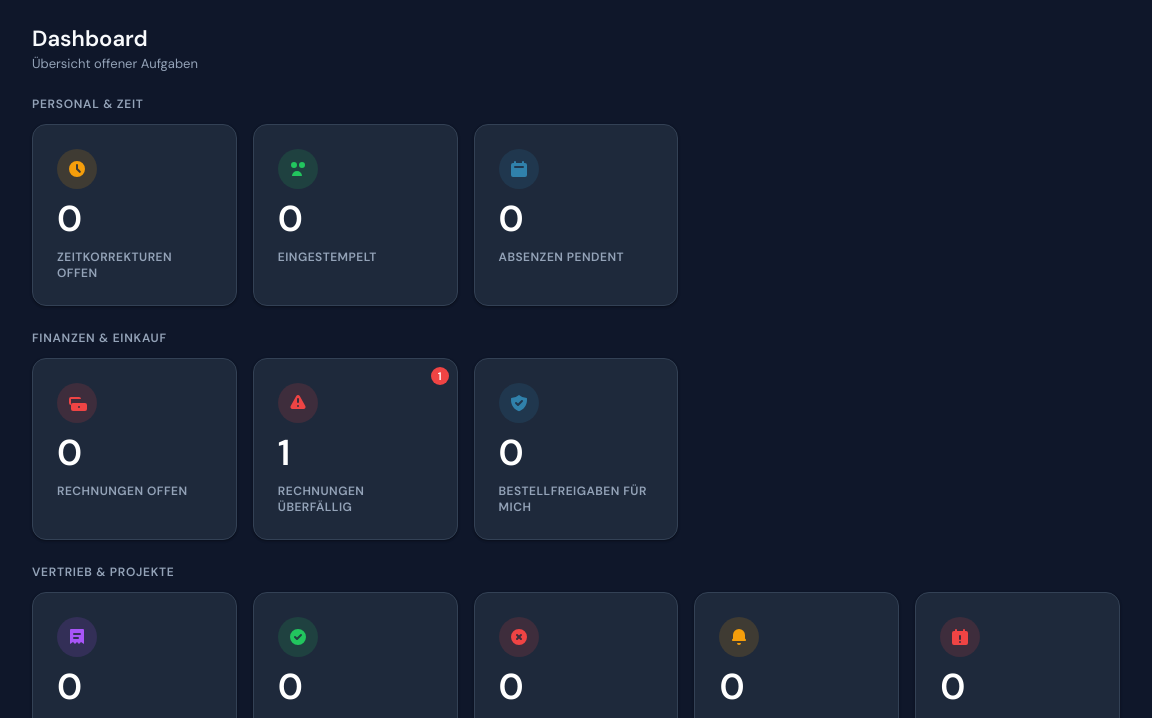
it: Mahnung als Brief › vermerkt beim Öffnen nichts, erst auf ausdrücklichen Klick
What coordinates should you click on to do the following:
click the text "Rechnungen überfällig"
I would click on:
 (321, 499)
Its box is [278,483,364,515].
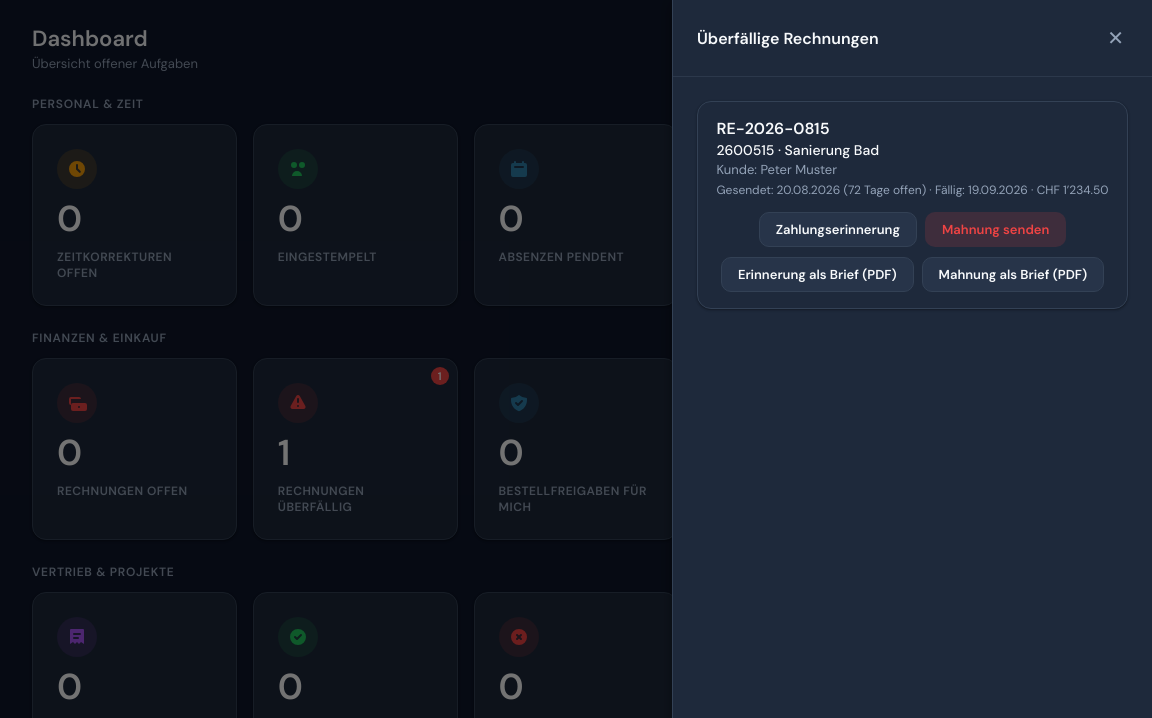
Result: the text "RE-2026-0815" is shown at [716,118,830,139]
What coordinates should you click on to do the following:
click the link "Mahnung als Brief (PDF)"
I would click on:
 (1013, 274)
Its box is [922,257,1104,292].
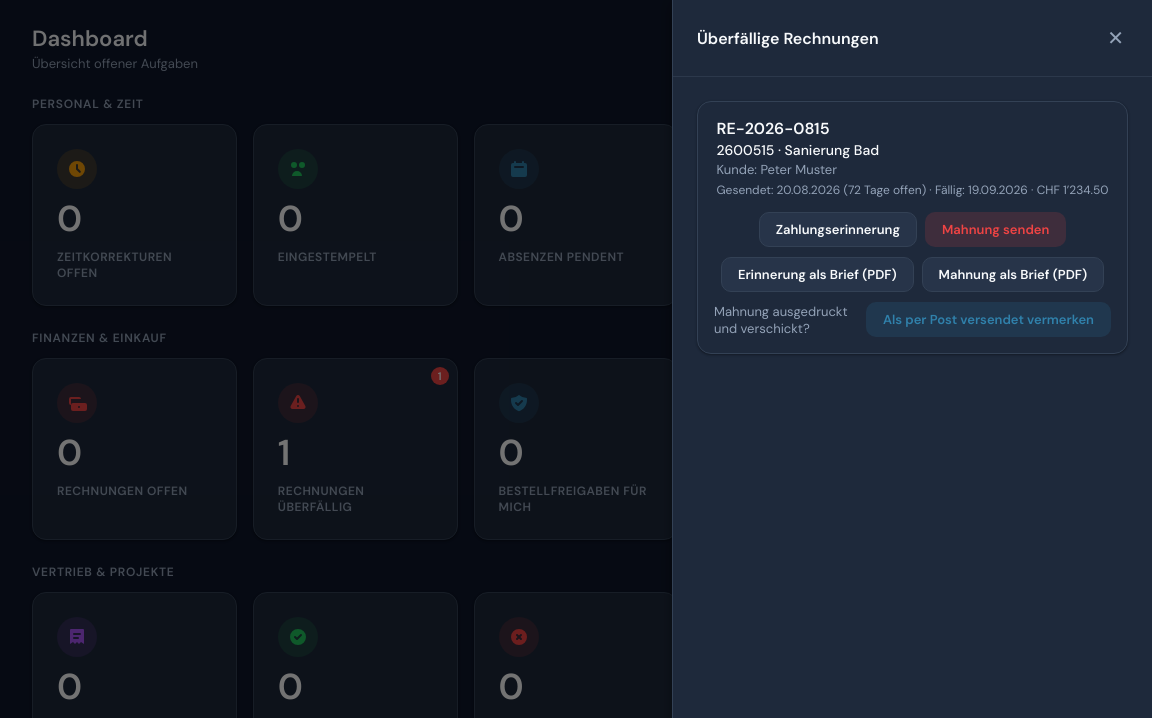
What coordinates should you click on to do the following:
click the button "Als per Post versendet vermerken"
I would click on:
 (988, 320)
Its box is [866,302,1111,337].
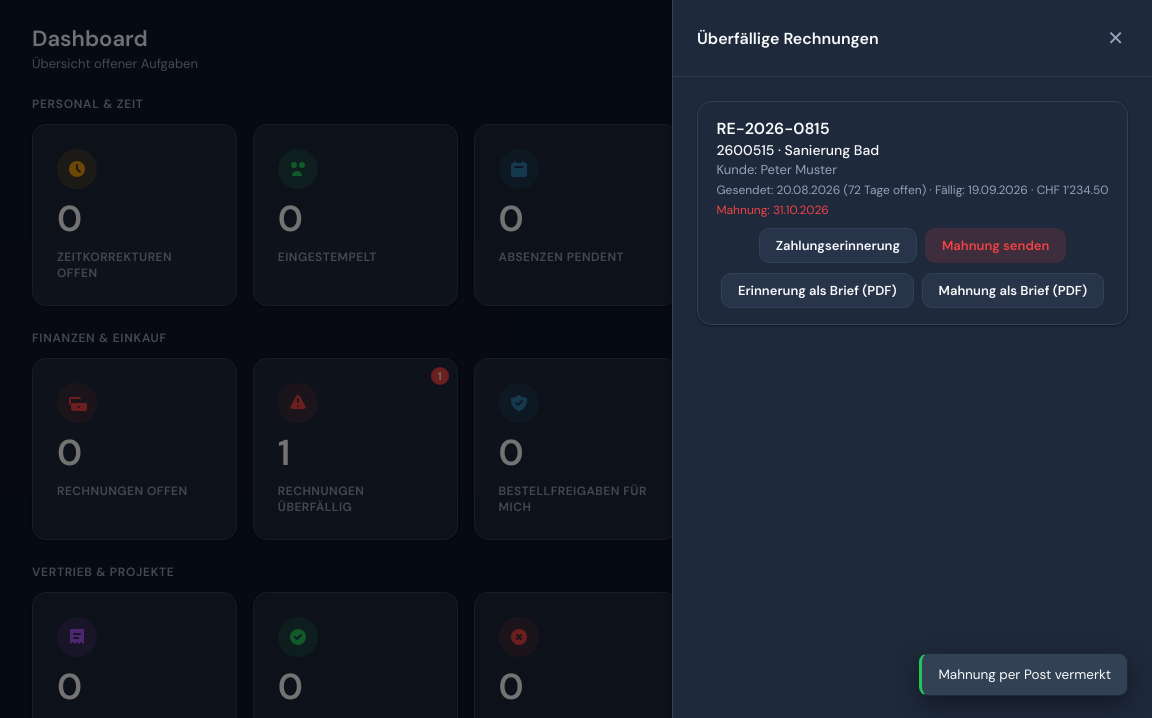
Result: the text "Mahnung: 31.10.2026" is shown at [716,202,829,218]
Result: the button "Als per Post versendet vermerken" is gone
